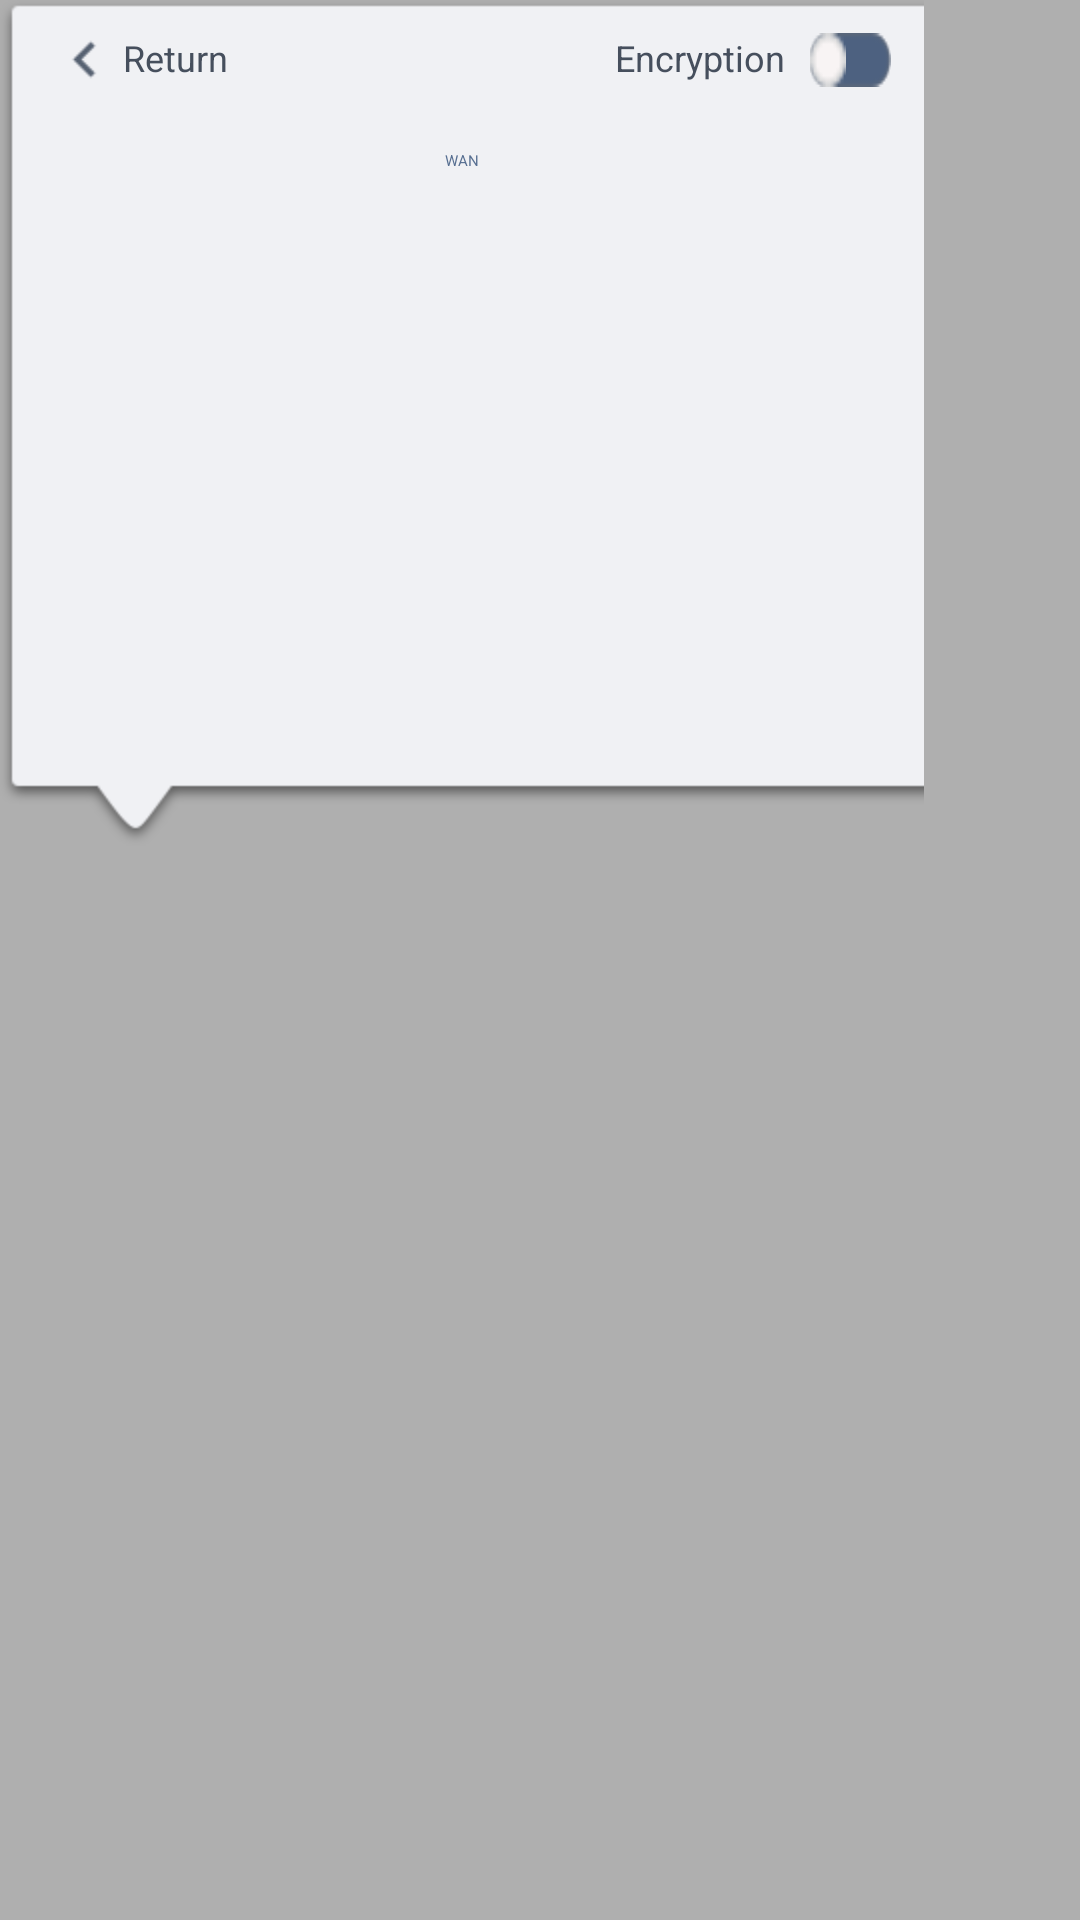

Point at icon controls on the screen. Image size 1080w x 1920h, points as (x=x, y=y).
back: (x=84, y=59)
